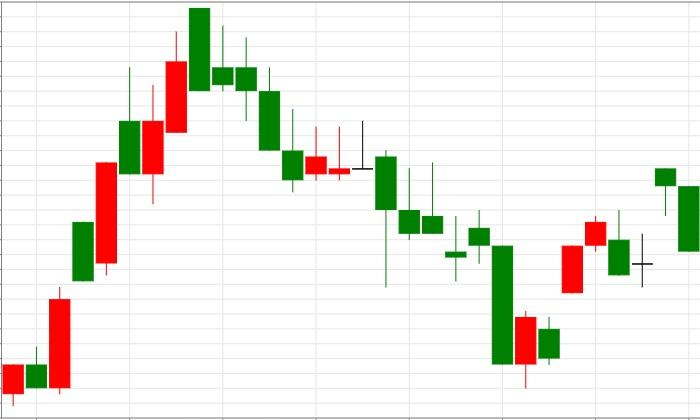hanging_man_fall: (608, 168, 677, 288)
three_black_crows_fall: (2, 8, 304, 405)
